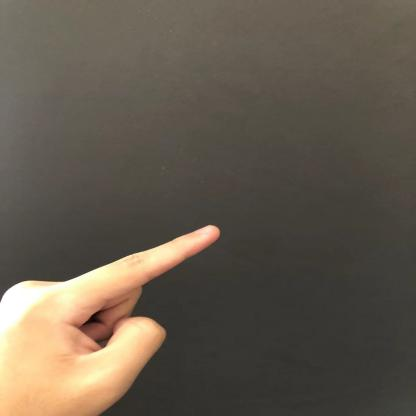finger_point: (44, 212, 221, 307)
